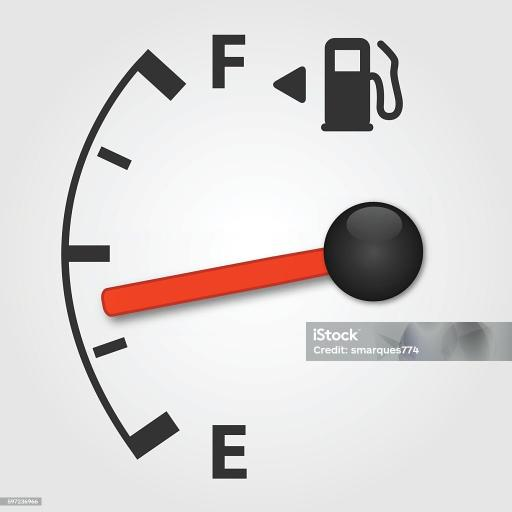empty: (203, 421, 247, 487)
fuel_icon: (314, 35, 408, 134)
full: (206, 32, 250, 95)
guage_area: (61, 20, 452, 490)
needle_center: (320, 190, 424, 308)
needle_tip: (95, 280, 125, 323)
